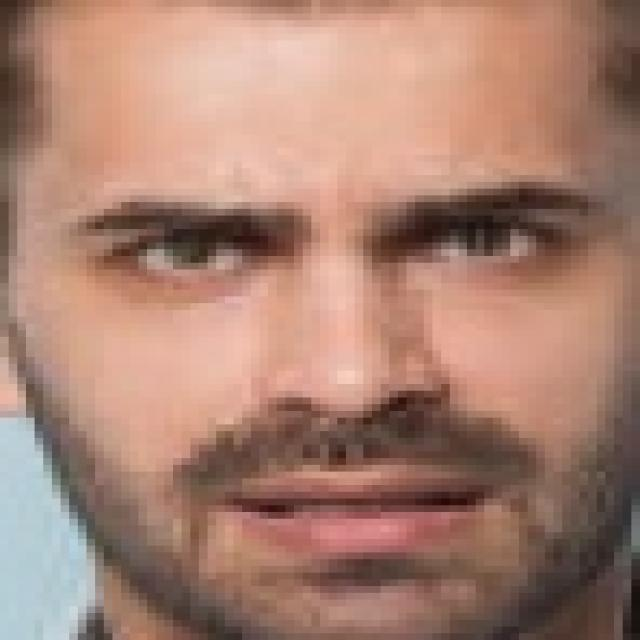Anxiety: (8, 0, 631, 633)
